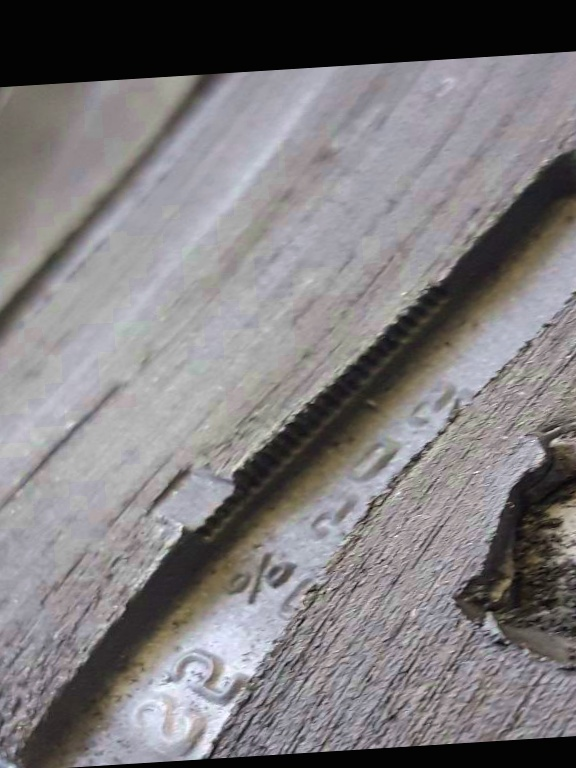temoin:0: (127, 431, 277, 560)
